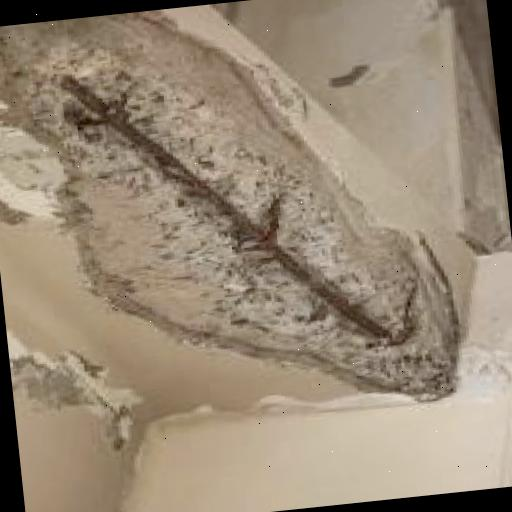spalling: (0, 13, 465, 401)
